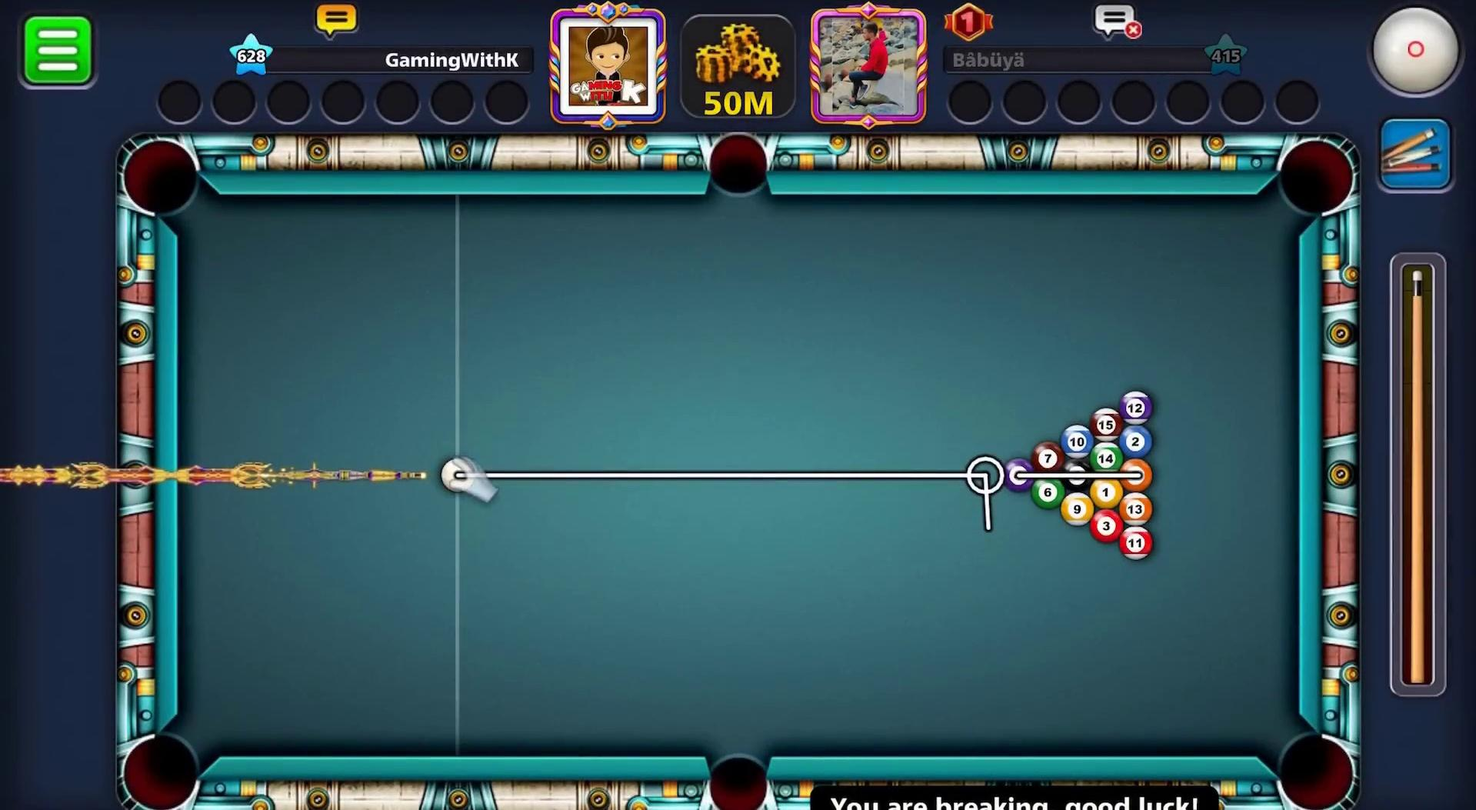Ball: (1056, 490, 1096, 529), (1115, 524, 1154, 563), (1116, 489, 1152, 528), (1089, 506, 1124, 546), (1116, 457, 1153, 493), (1058, 457, 1095, 492), (1119, 422, 1154, 459), (1089, 404, 1123, 442), (1120, 388, 1153, 427), (1029, 439, 1066, 473), (1062, 422, 1094, 461), (1001, 457, 1035, 492), (1029, 477, 1065, 510), (1089, 441, 1123, 475), (1088, 477, 1123, 510)
Force: (1390, 251, 1450, 701)
Guideline: (452, 467, 996, 537), (965, 453, 1005, 499), (1015, 470, 1144, 482)
Hole: (99, 126, 221, 236), (108, 712, 220, 810), (1259, 713, 1366, 810), (1277, 121, 1359, 237), (680, 124, 783, 215), (686, 729, 785, 810)
Play_Area: (179, 196, 1299, 758)
Spin: (1353, 0, 1476, 109)
White: (433, 453, 483, 498)
